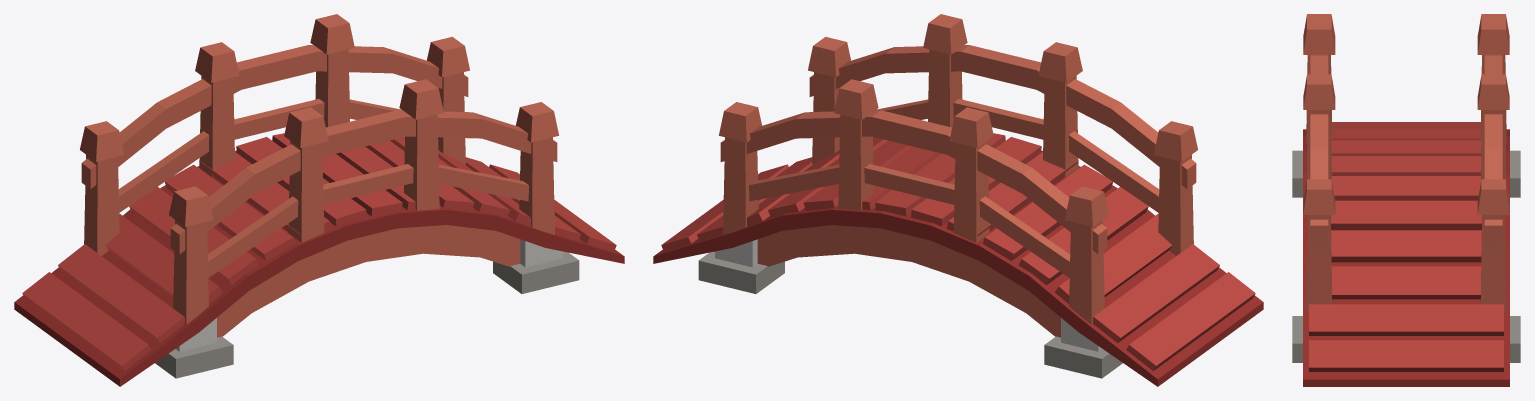
The model's file is arched-foot-bridge-0da34f.glb.
The picture shows the model from 3 angles, left to right: view 1: azimuth 30°, elevation 25°; view 2: azimuth 150°, elevation 25°; view 3: azimuth 270°, elevation 25°; orthographic projection. The views are drawn at different scales.
Visible parts, largest first — view 1: bridge; view 2: bridge; view 3: bridge.
Part boxes in pixels (x1,y1,x2,y2): bridge: (14, 14, 624, 386); bridge: (653, 14, 1263, 386); bridge: (1292, 14, 1520, 386).
Size of the model in its own units: 3.5 by 1.45 by 1.4.
